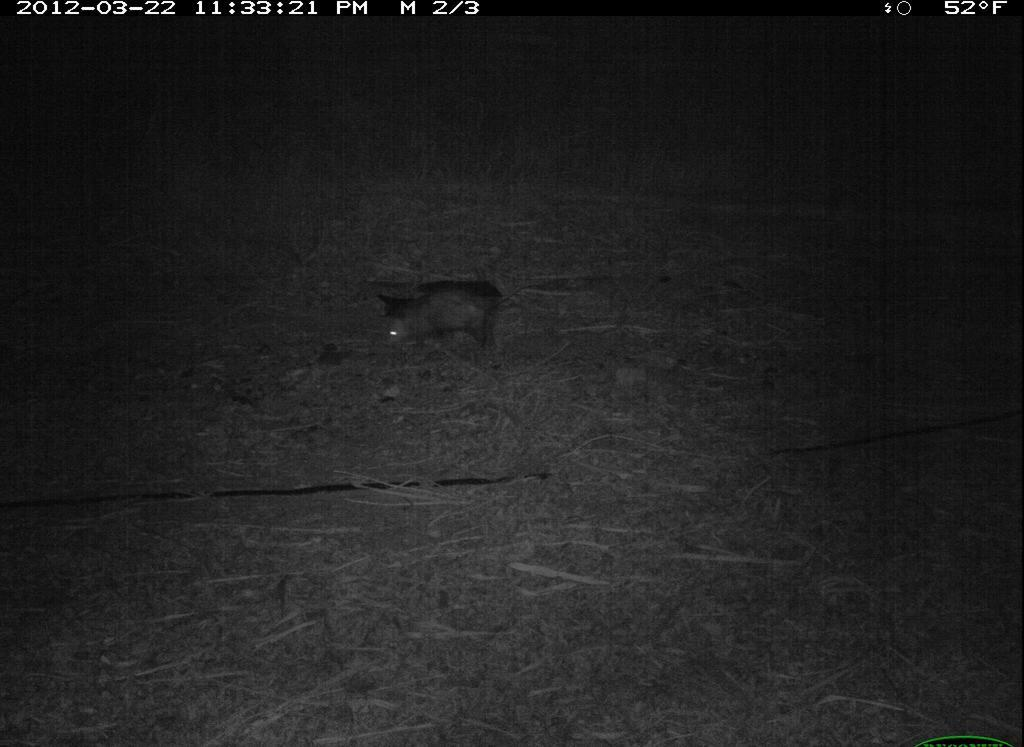opossum: (373, 274, 551, 367)
